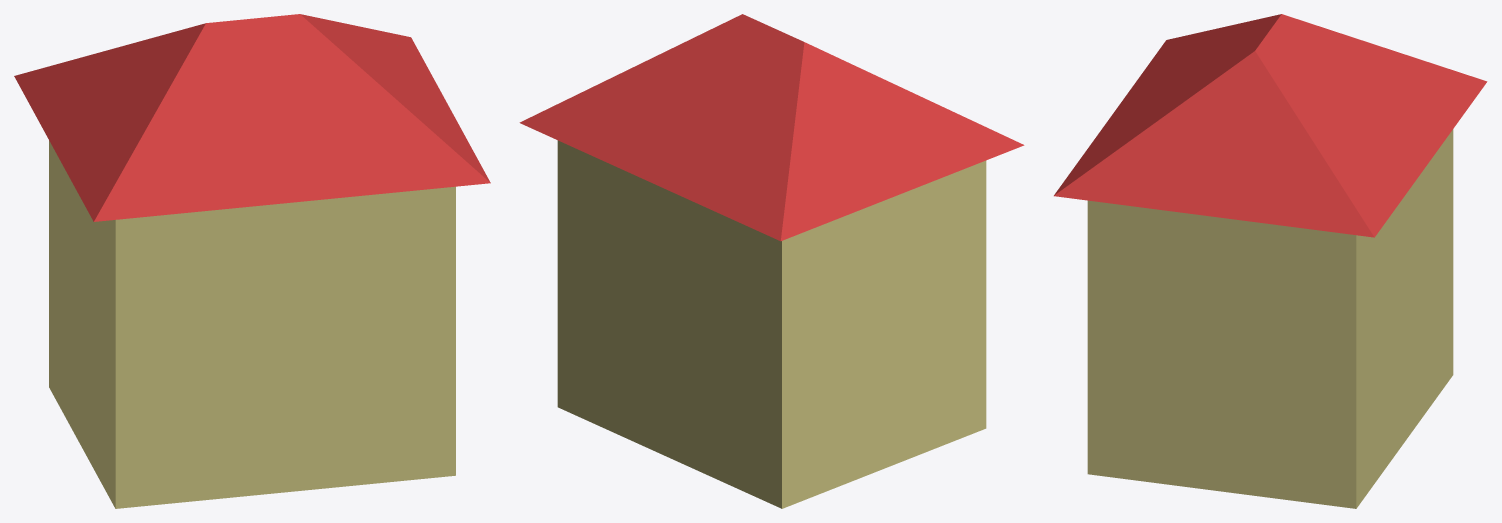
3 views of the same model, side by side, from view 1: azimuth 30°, elevation 25°; view 2: azimuth 150°, elevation 25°; view 3: azimuth 270°, elevation 25° (orthographic). The views are drawn at different scales.
Visible parts, largest first — view 1: group_5, group_3, group_4; view 2: group_5, group_3, group_4; view 3: group_5, group_3, group_4.
Boxes of the visible parts, x1,y1,x2,y2 form: group_5: [49, 140, 455, 508]; group_3: [14, 14, 490, 221]; group_4: [94, 33, 490, 220]; group_5: [557, 140, 986, 508]; group_3: [519, 14, 1023, 241]; group_4: [526, 103, 1023, 240]; group_5: [1087, 129, 1453, 508]; group_3: [1054, 14, 1486, 237]; group_4: [1054, 70, 1487, 237].
Bounding box in the file's own units: 17.01 × 15.79 × 15.73.
